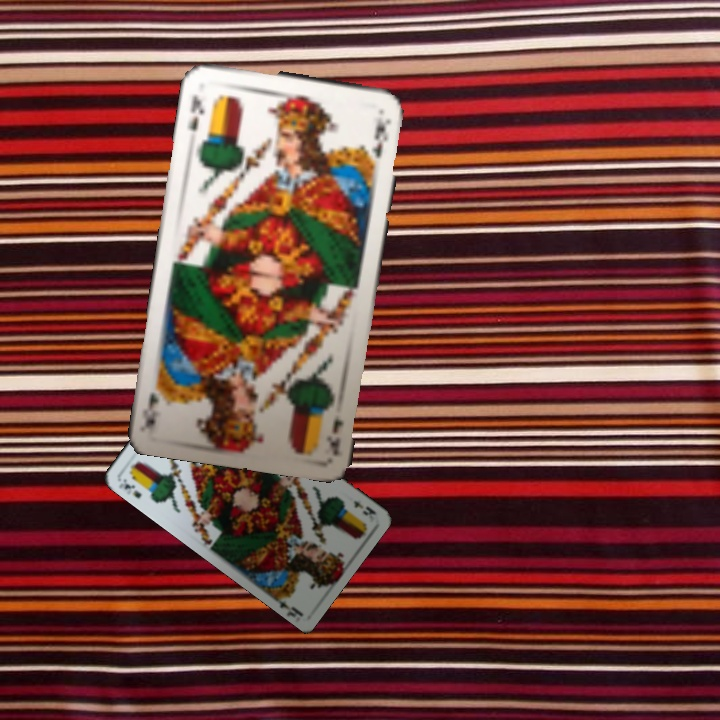EK: (323, 410, 345, 457), (184, 90, 207, 133), (114, 475, 144, 501), (350, 496, 378, 518)
